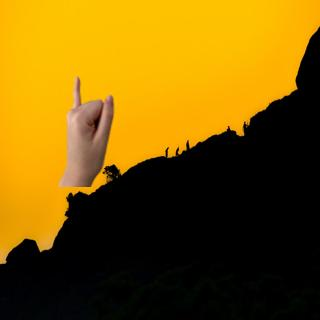Fine: (55, 68, 117, 183)
